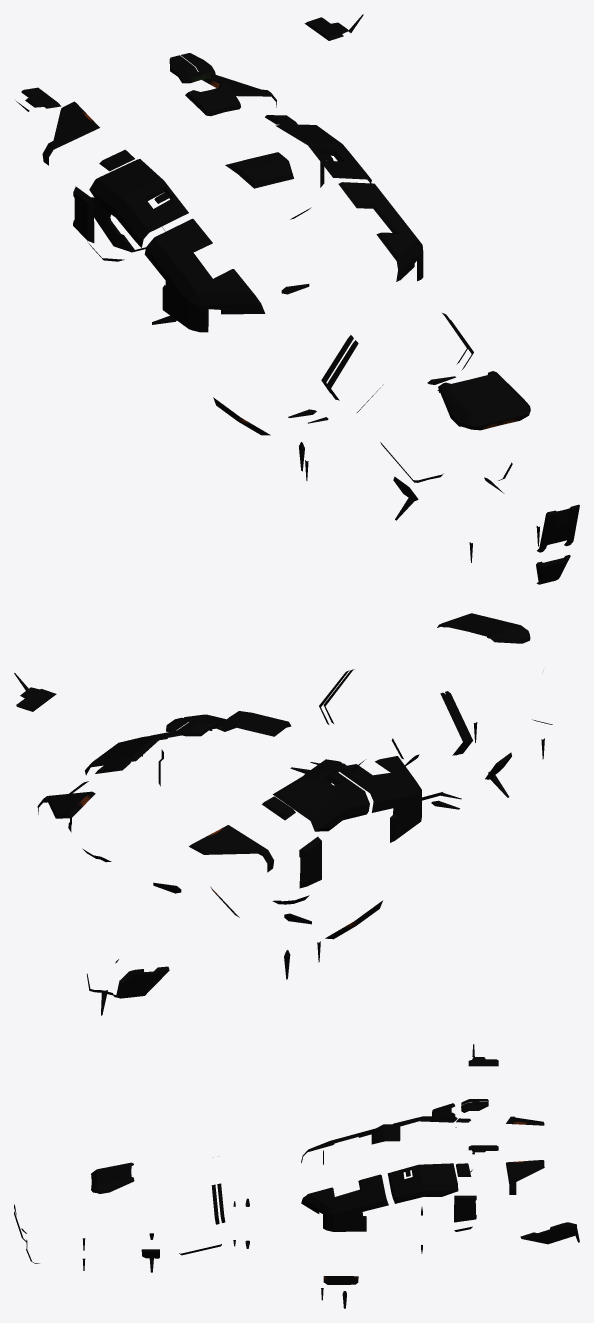
Rendered from tan_destroyer_01_t2.glb.
3 renders of one model, top to bottom at view 1: azimuth 30°, elevation 25°; view 2: azimuth 150°, elevation 25°; view 3: azimuth 270°, elevation 25°, orthographic. The views are drawn at different scales.
Parts seen in each view (by area): view 1: tan_destroyer_t2_LOD0; view 2: tan_destroyer_t2_LOD0; view 3: tan_destroyer_t2_LOD0.
Boxes of the visible parts, x1=… form: tan_destroyer_t2_LOD0: x1=15, y1=14, x2=579, y2=584; tan_destroyer_t2_LOD0: x1=14, y1=613, x2=552, y2=1015; tan_destroyer_t2_LOD0: x1=14, y1=1044, x2=579, y2=1308.
Size of what is drawn, in the model's own units: 2.57 by 2.39 by 5.85.
1 material, 1 textured.
